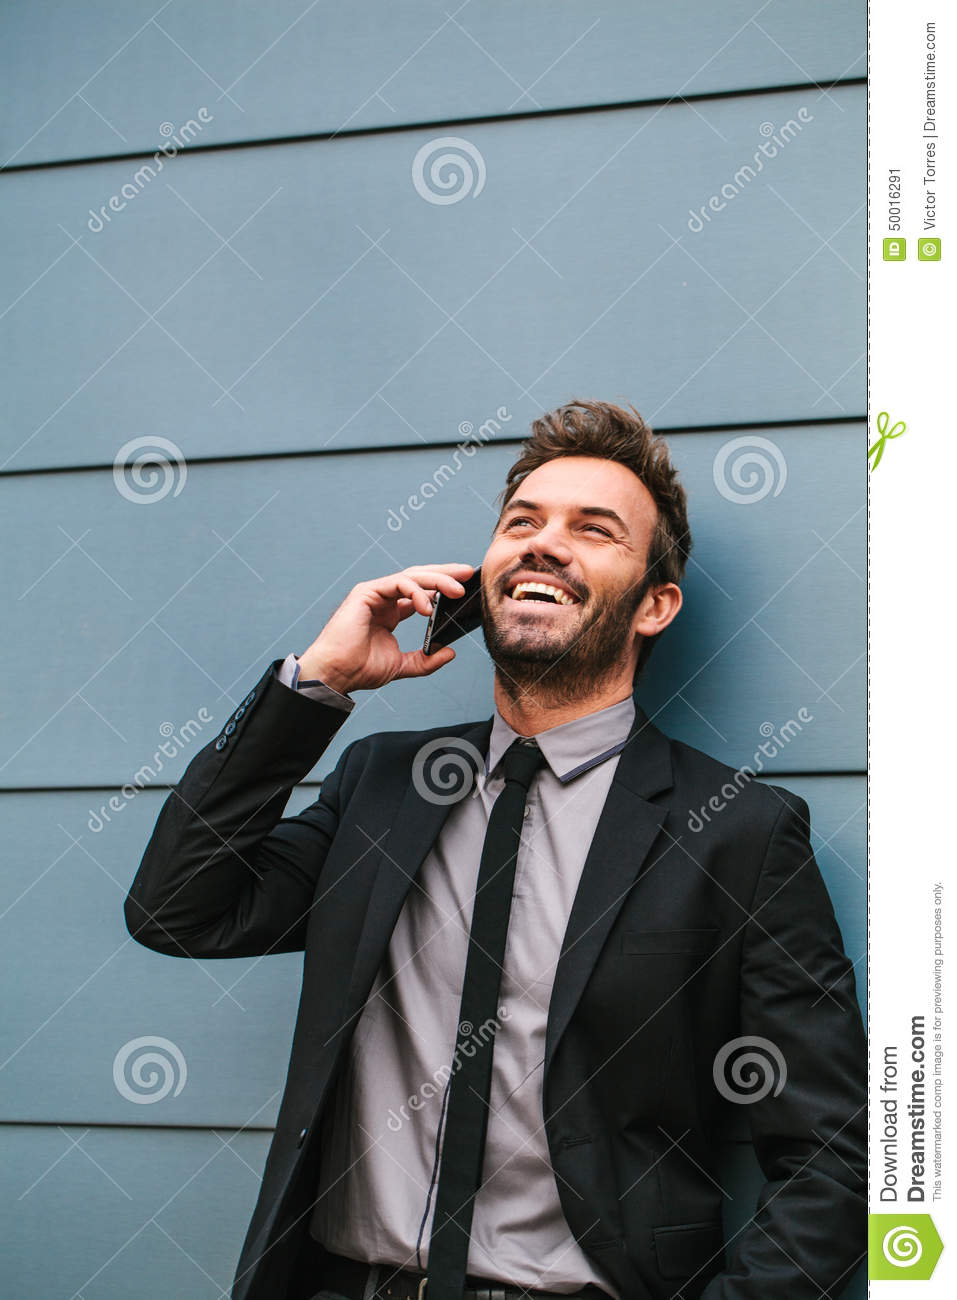phone: (418, 553, 492, 672)
talk: (306, 491, 635, 696)
